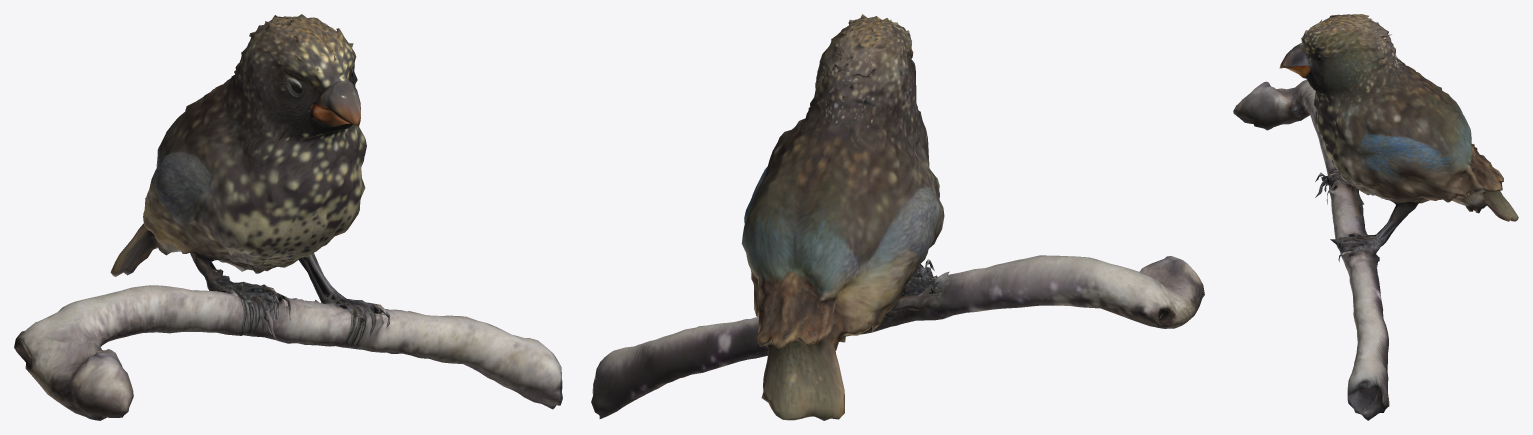
Rendered from นกฟินช์_0519041534_texture.glb.
3 renders of one model, left to right at view 1: azimuth 30°, elevation 25°; view 2: azimuth 150°, elevation 25°; view 3: azimuth 270°, elevation 25°, orthographic. The views are drawn at different scales.
Bounding box in the file's own units: 1.99 × 1.57 × 1.29.
Materials: 1 (1 with a texture image).
